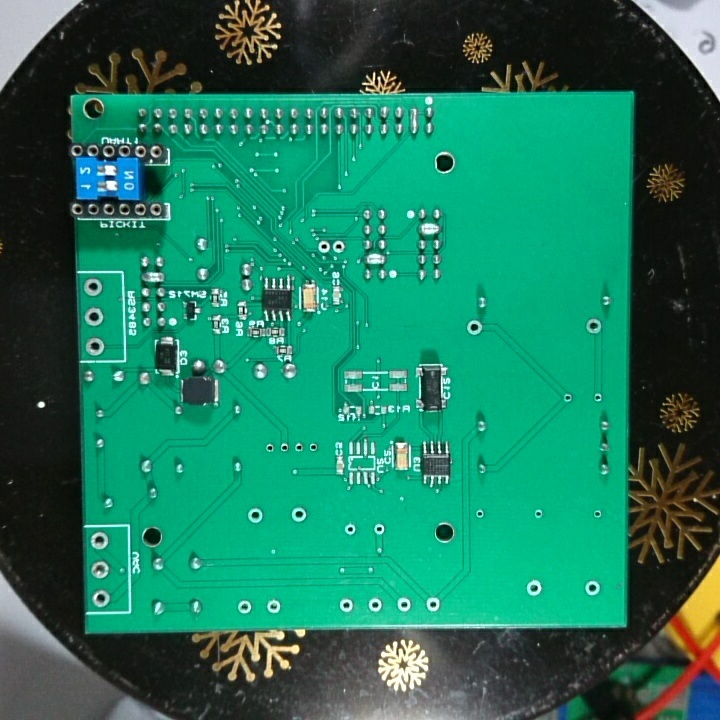F: (520, 578, 548, 601), (81, 275, 105, 300), (87, 558, 111, 583), (82, 303, 105, 329), (88, 529, 111, 555), (88, 586, 114, 608), (263, 596, 288, 618), (84, 333, 108, 355), (581, 578, 603, 600), (464, 318, 487, 339), (584, 316, 605, 338), (289, 504, 309, 526), (336, 597, 360, 614), (246, 506, 266, 526), (233, 598, 255, 616), (394, 595, 415, 613), (372, 520, 388, 540), (305, 438, 321, 458), (367, 595, 384, 613), (423, 595, 441, 612), (559, 389, 576, 407), (316, 238, 333, 255), (332, 236, 345, 257), (588, 507, 604, 524), (530, 506, 546, 523), (341, 520, 356, 538), (264, 441, 279, 457), (291, 440, 304, 458), (473, 505, 485, 523), (279, 440, 290, 458), (592, 390, 601, 406)
P: (407, 104, 421, 139), (415, 221, 442, 238), (361, 251, 387, 267), (141, 269, 166, 285)
